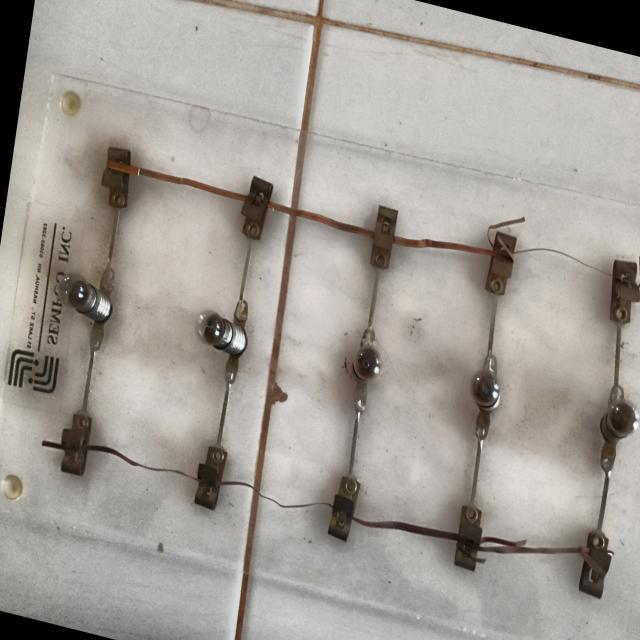Set of Resistors and Bulbs: (16, 93, 640, 638)
